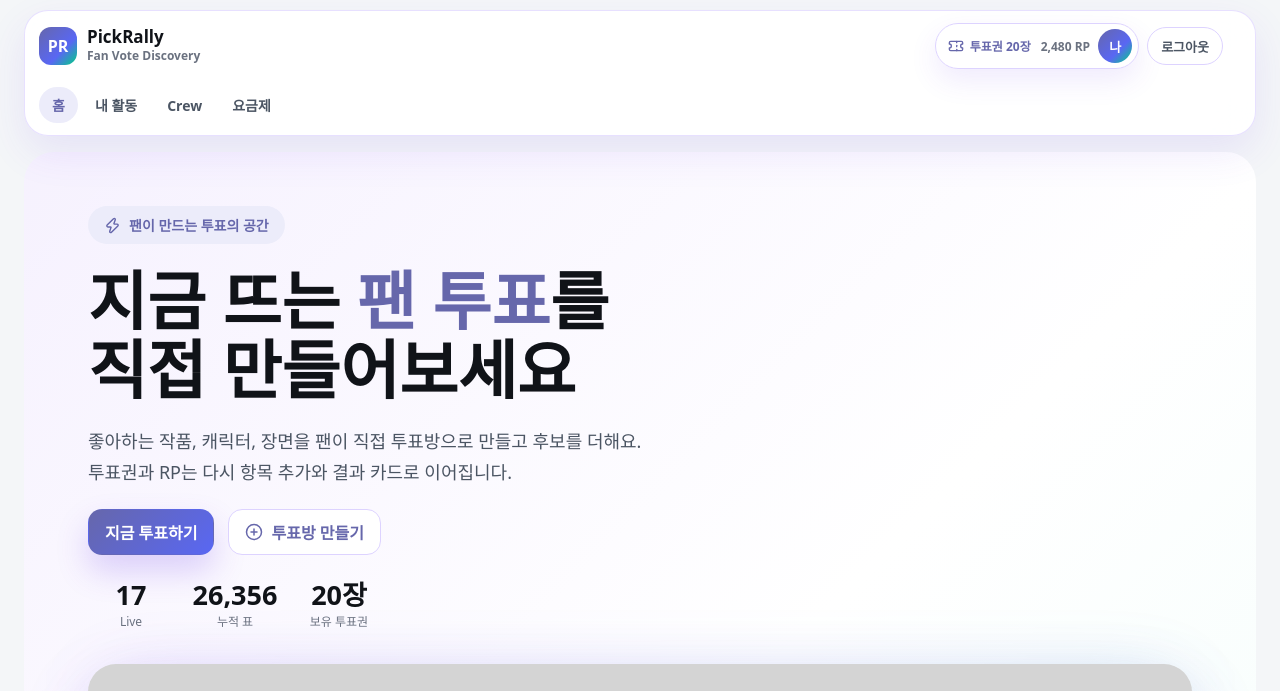
Test: PickRally app shell › navigates to room creation from the hero CTA
The width and height of the screenshot is (1280, 691).
Click the link "투표방 만들기". click: (305, 532)
box: [228,509,381,555]
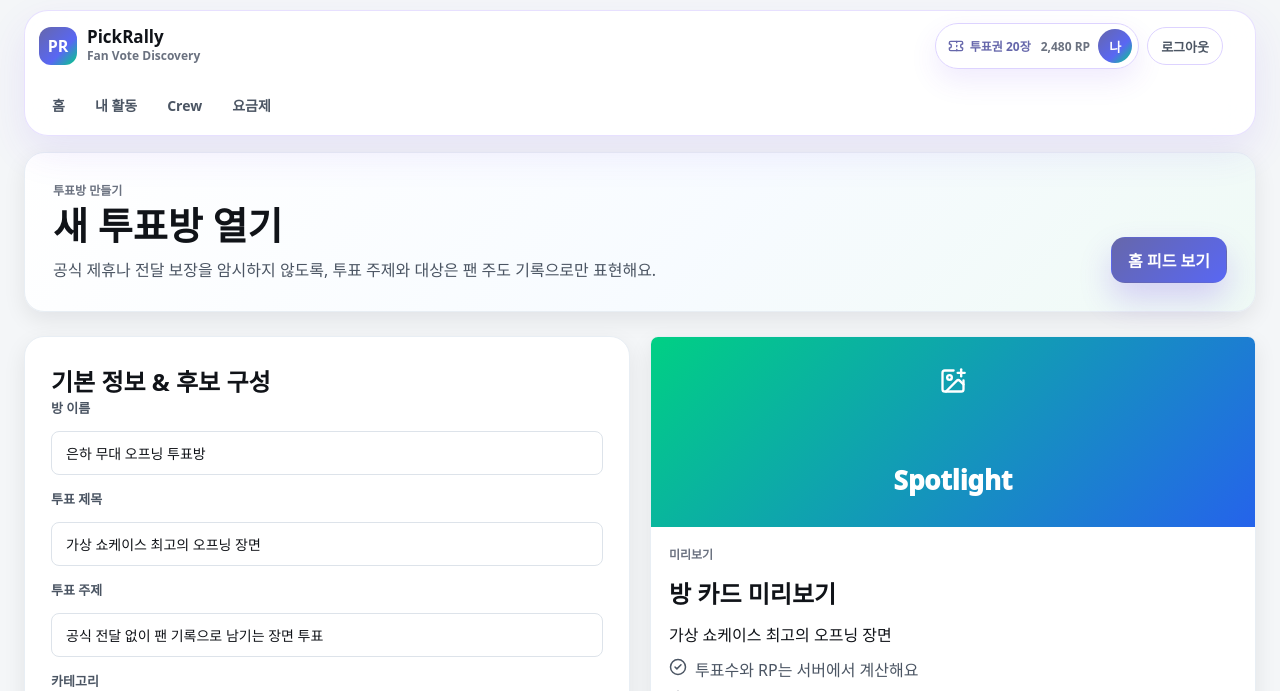
Expected: the heading "새 투표방 열기" is shown, [53,199,282,251]
Expected: the text "공식 제휴나 전달 보장을 암시하지 않도록, 투표 주제와 대상은 팬 주도 기록으로만 표현해요." is shown, [53,257,656,283]
